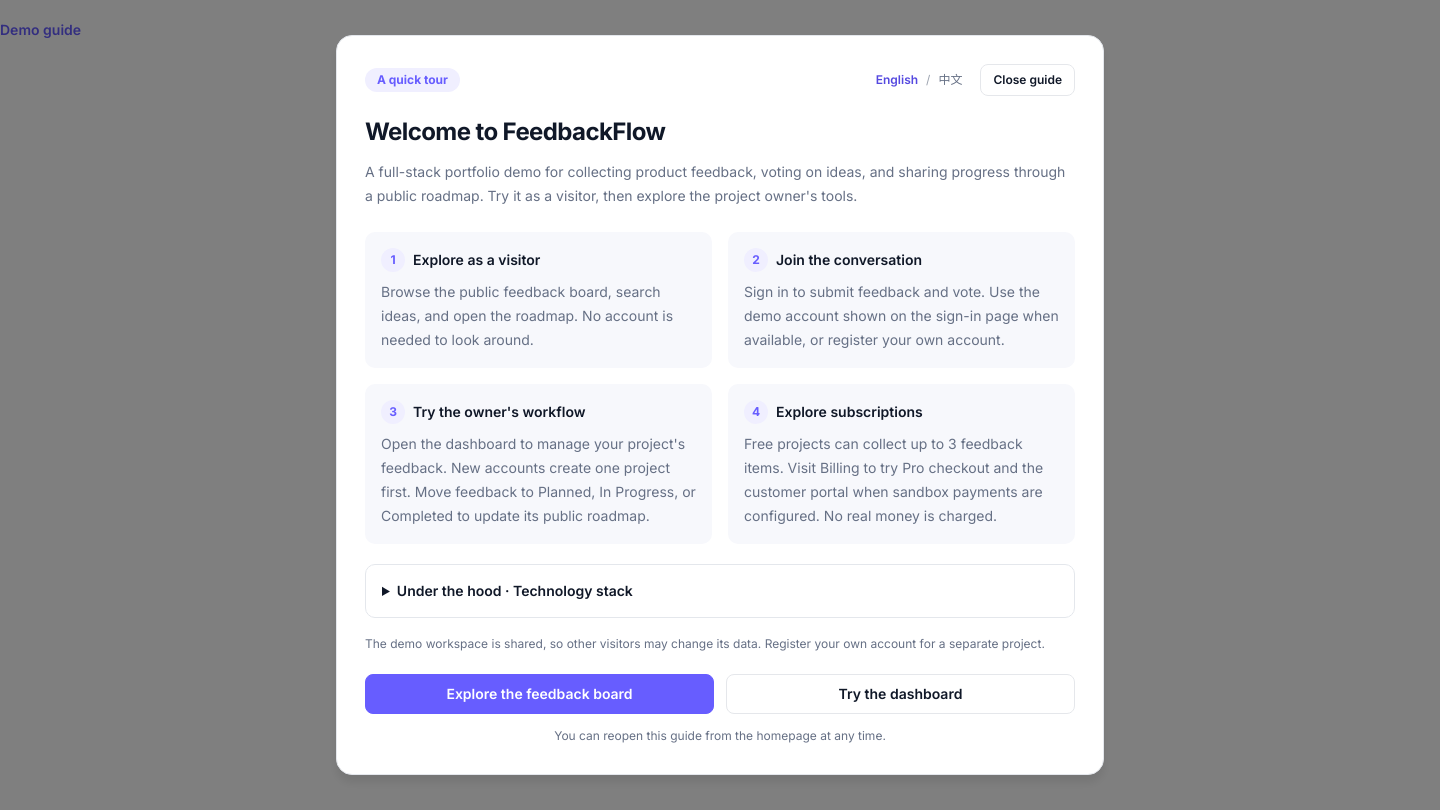
DemoGuide › introduces the workflow, technologies, and existing destinations on the first visit
Expected: the number of list items is 4, [365,232,712,368]; [728,232,1075,368]; [365,384,712,544]; [728,384,1075,544]
Expected: the text "No real money is charged" is shown, [744,435,1043,524]
Click the heading "Under the hood · Technology stack".
click(515, 590)  # box [397,582,633,599]
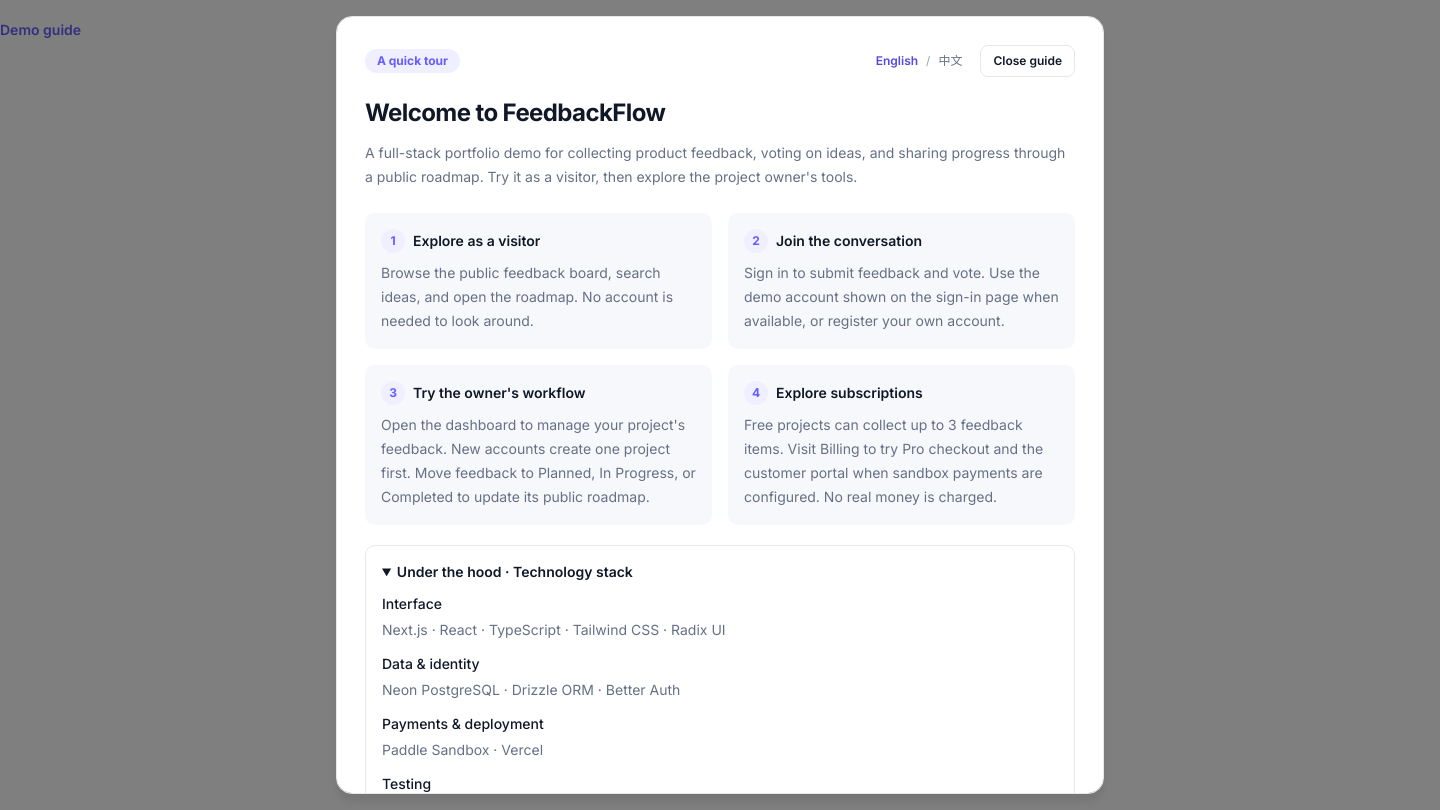
Now the text "Neon PostgreSQL · Drizzle ORM · Better Auth" is shown, box [382,681,680,698]
Now the text "Paddle Sandbox · Vercel" is shown, box [382,741,543,758]
